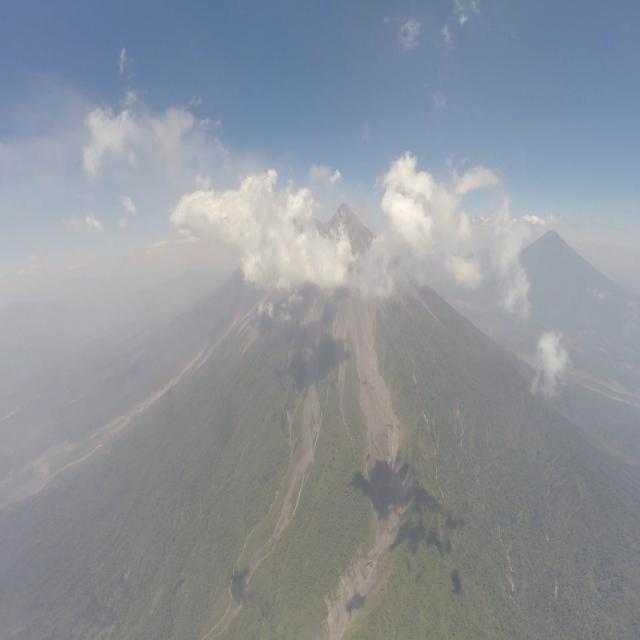Summit: (326, 198, 359, 226)
